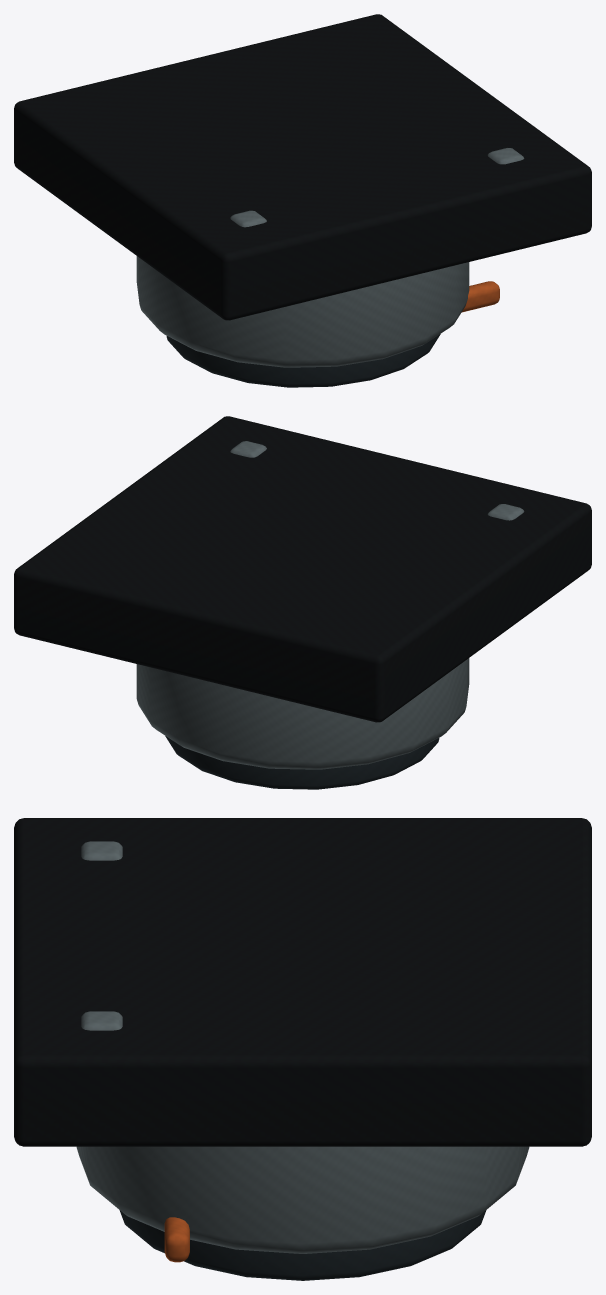
The model's file is CeilingSpeaker.fbx.
3 renders of one model, top to bottom at view 1: azimuth 30°, elevation 25°; view 2: azimuth 150°, elevation 25°; view 3: azimuth 270°, elevation 25°, orthographic. The views are drawn at different scales.
Parts seen in each view (by area): view 1: CeilingSpeaker_Mesh; view 2: CeilingSpeaker_Mesh; view 3: CeilingSpeaker_Mesh.
Boxes of the visible parts, x1,y1,x2,y2 form: CeilingSpeaker_Mesh: (14,14,591,387); CeilingSpeaker_Mesh: (14,416,591,789); CeilingSpeaker_Mesh: (14,818,591,1280).
Bounding box in the file's own units: 46 × 26.65 × 46.
5 materials, 5 textured.
